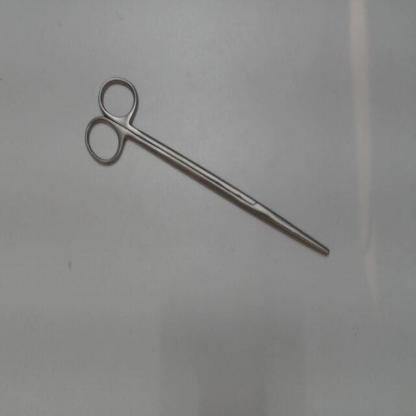9 Metzenbaum Scissors: (78, 69, 333, 262)
